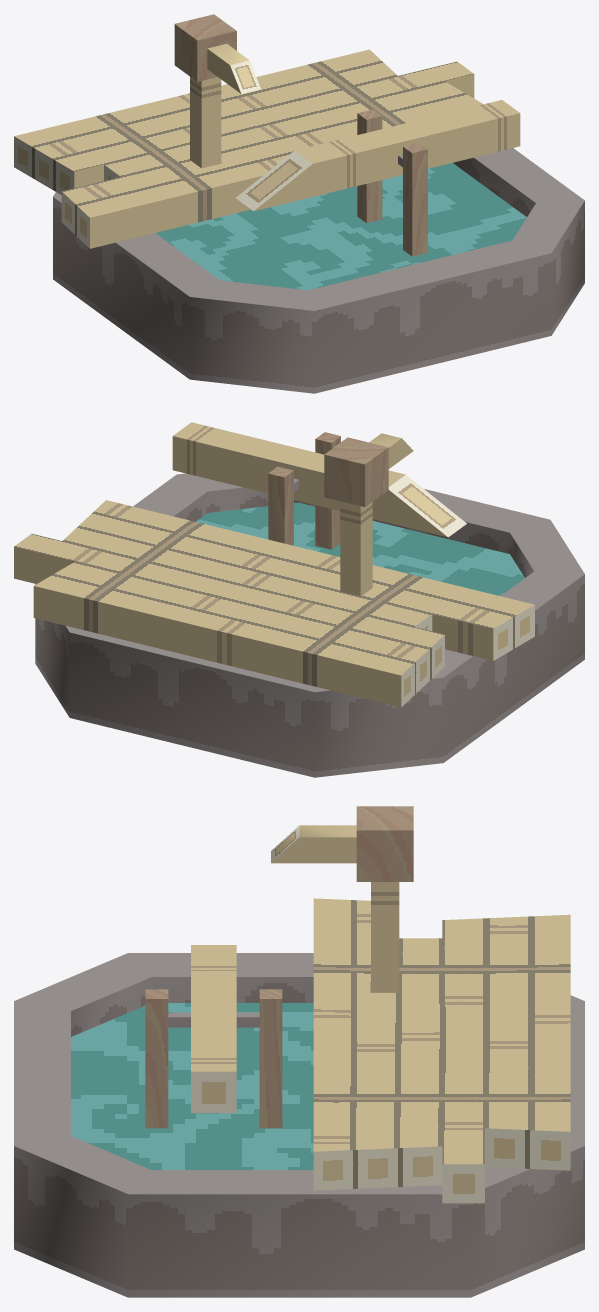
The model's file is 02f7_Deer_Scare.glb.
3 renders of one model, top to bottom at view 1: azimuth 30°, elevation 25°; view 2: azimuth 150°, elevation 25°; view 3: azimuth 270°, elevation 25°, orthographic. The views are drawn at different scales.
Parts seen in each view (by area): view 1: part_0, part_2, part_1; view 2: part_0, part_1, part_2; view 3: part_0, part_2, part_1.
Boxes of the visible parts, left/top/right/bottom form: part_0: left=14, top=14, right=584, bottom=393; part_2: left=155, top=163, right=526, bottom=290; part_1: left=236, top=100, right=520, bottom=211; part_0: left=14, top=432, right=584, bottom=777; part_1: left=172, top=422, right=466, bottom=537; part_2: left=196, top=502, right=524, bottom=595; part_0: left=14, top=806, right=584, bottom=1297; part_2: left=71, top=1003, right=313, bottom=1169; part_1: left=191, top=945, right=236, bottom=1113.
Bounding box in the file's own units: 1.1 × 0.6 × 1.
Materials: 3 (3 with a texture image).
